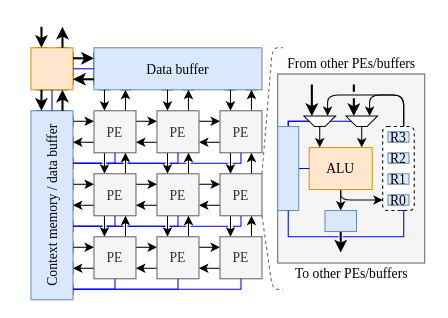
Some shapes in this 448 by 318 pixel diagram are drawn without their labels. The shapes that lost their labels are listed below. From the top down, each one's centre as x and y in pixels, then its label:
At pixel 51 68: "Control".
At pixel 288 168: "Configuration".
At pixel 340 220: "Reg".
